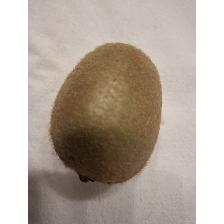Kiwi: (48, 38, 164, 188)
